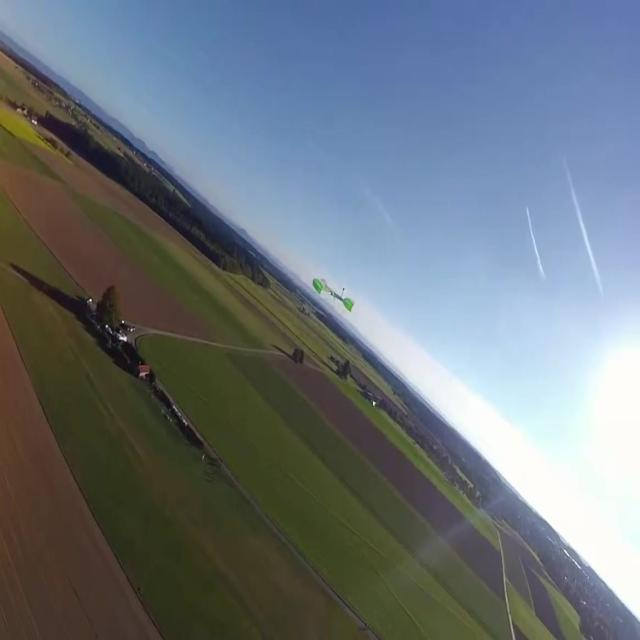iha: (311, 277, 355, 313)
